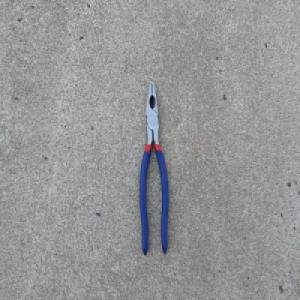Pliers: (138, 78, 170, 258)
